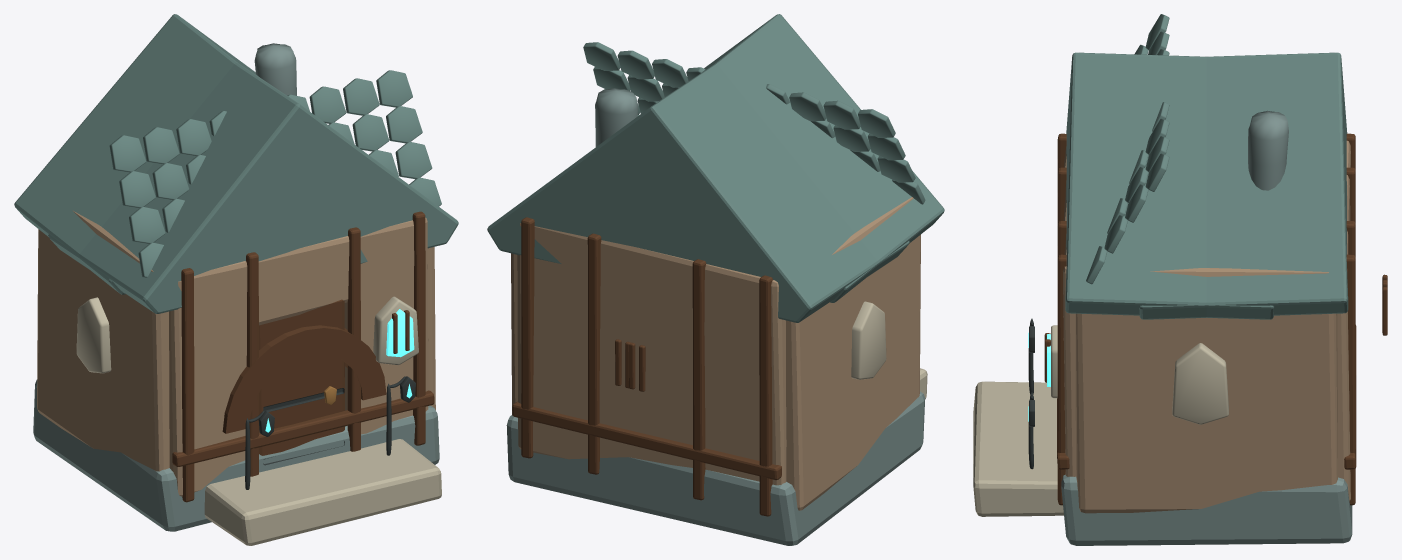
Rendered from dwelling.glb.
3 views of the same model, side by side, from view 1: azimuth 30°, elevation 25°; view 2: azimuth 150°, elevation 25°; view 3: azimuth 270°, elevation 25° (orthographic). The views are drawn at different scales.
Parts seen in each view (by area): view 1: Swept tiled roof -1, Cottage side wall -1, Swept tiled roof 1, Cottage porch, Cottage front wall wing -1, Cottage stone foundation, Cottage front wall wing 1, Cottage timber door, Cottage door frame, Cottage front lintel, Wall timber sill -1, Front timber stud -1 -1.18 (+21 smaller); view 2: Swept tiled roof 1, Cottage rear wall, Cottage side wall -1, Cottage stone foundation, Swept tiled roof -1, Wall timber sill 1, Front timber stud 1 1.18, Front timber stud 1 -1.18, Front timber stud 1 0.52, Front timber stud 1 -0.52, Cottage side window -1 carved frame, Twisted chimney (+12 smaller); view 3: Cottage side wall 1, Swept tiled roof 1, Swept tiled roof -1, Cottage stone foundation, Cottage porch, Cottage side window 1 carved frame, Twisted chimney, Cottage rear wall, Cottage front wall wing 1, Front timber stud 1 1.18, Front timber stud -1 1.18, Cottage front window carved frame (+2 smaller).
Boxes of the visible parts, x1=… form: Swept tiled roof -1: x1=48, y1=63, x2=458, y2=313; Cottage side wall -1: x1=37, y1=210, x2=169, y2=471; Swept tiled roof 1: x1=14, y1=14, x2=258, y2=294; Cottage porch: x1=204, y1=439, x2=441, y2=545; Cottage front wall wing -1: x1=169, y1=261, x2=247, y2=496; Cottage stone foundation: x1=33, y1=379, x2=439, y2=531; Cottage front wall wing 1: x1=344, y1=217, x2=428, y2=434; Cottage timber door: x1=259, y1=299, x2=344, y2=455; Cottage door frame: x1=222, y1=325, x2=386, y2=433; Cottage front lintel: x1=258, y1=236, x2=349, y2=325; Wall timber sill -1: x1=172, y1=390, x2=434, y2=466; Front timber stud -1 -1.18: x1=181, y1=268, x2=194, y2=502; Swept tiled roof 1: x1=487, y1=64, x2=909, y2=322; Cottage rear wall: x1=517, y1=223, x2=786, y2=485; Cottage side wall -1: x1=786, y1=197, x2=920, y2=510; Cottage stone foundation: x1=506, y1=391, x2=925, y2=545; Swept tiled roof -1: x1=703, y1=14, x2=944, y2=302; Wall timber sill 1: x1=512, y1=401, x2=781, y2=480; Front timber stud 1 1.18: x1=521, y1=217, x2=534, y2=458; Front timber stud 1 -1.18: x1=759, y1=275, x2=772, y2=516; Front timber stud 1 0.52: x1=587, y1=233, x2=601, y2=474; Front timber stud 1 -0.52: x1=692, y1=259, x2=706, y2=500; Cottage side window -1 carved frame: x1=851, y1=301, x2=886, y2=379; Twisted chimney: x1=595, y1=88, x2=638, y2=146; Cottage side wall 1: x1=1075, y1=268, x2=1337, y2=513; Swept tiled roof 1: x1=1139, y1=52, x2=1348, y2=319; Swept tiled roof -1: x1=1065, y1=52, x2=1274, y2=319; Cottage stone foundation: x1=1061, y1=474, x2=1352, y2=545; Cottage porch: x1=973, y1=381, x2=1063, y2=516; Cottage side window 1 carved frame: x1=1172, y1=343, x2=1228, y2=424; Twisted chimney: x1=1248, y1=110, x2=1288, y2=190; Cottage rear wall: x1=1337, y1=140, x2=1350, y2=501; Cottage front wall wing 1: x1=1063, y1=237, x2=1076, y2=476; Front timber stud 1 1.18: x1=1346, y1=254, x2=1355, y2=505; Front timber stud -1 1.18: x1=1057, y1=254, x2=1066, y2=505; Cottage front window carved frame: x1=1051, y1=325, x2=1057, y2=398.
Bounding box in the file's own units: 3.22 × 3.85 × 3.42.
